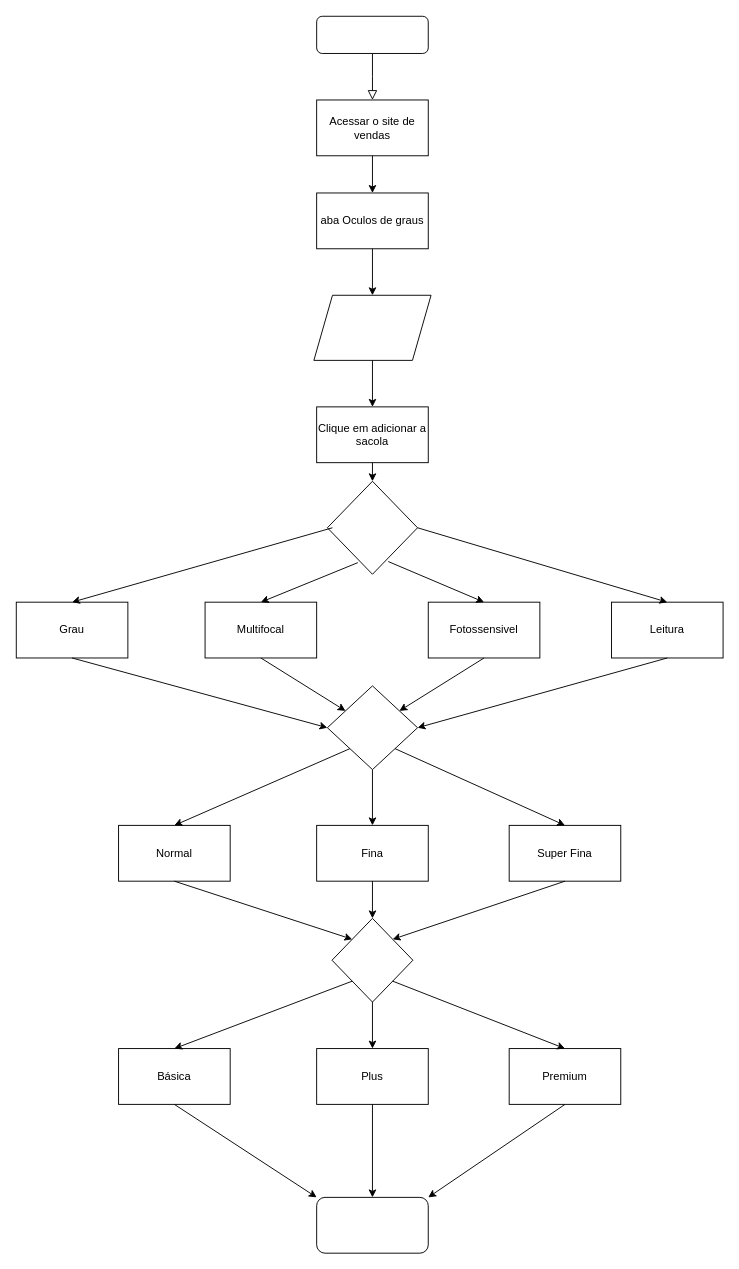
Image size: 739x1269. Some labels were removed from this diagram. The shapes that lost their labels are listed below. From the top down, each one's centre as x and y in pixels, then its label:
the point at 372,34: Compra de um oculos
the point at 372,327: selecione o oculos desejado
the point at 372,527: Selecione o tipo de oculos
the point at 372,727: Selecionar a espessura
the point at 372,959: Selecione a lente
the point at 372,1224: Finalizar compra
